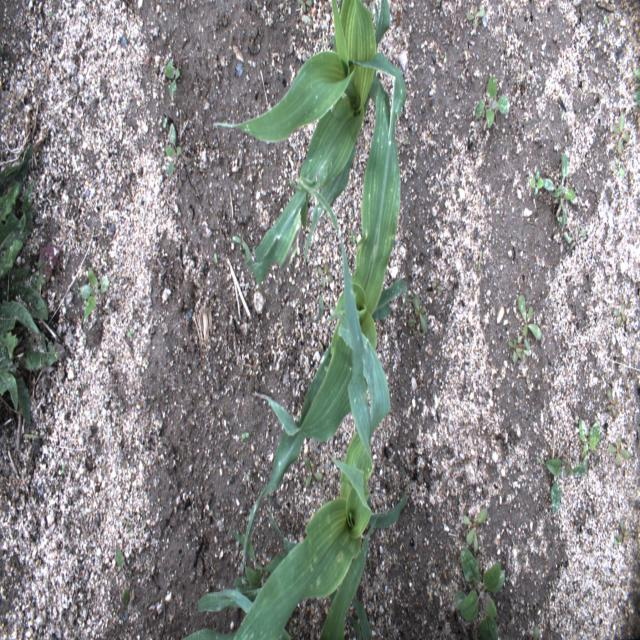crop: (242, 52, 410, 574), (178, 284, 391, 638), (212, 0, 390, 280), (320, 495, 387, 639), (309, 194, 349, 284), (382, 464, 410, 532), (304, 207, 320, 263), (350, 598, 372, 636)
weed: (0, 144, 65, 432), (454, 548, 507, 622), (544, 147, 580, 231), (543, 454, 588, 518), (474, 70, 510, 134), (78, 264, 112, 322), (516, 294, 542, 342), (114, 540, 131, 612), (462, 506, 488, 550), (578, 415, 603, 457), (163, 124, 181, 181), (608, 110, 630, 156), (605, 433, 633, 468), (162, 58, 180, 108), (302, 456, 326, 487), (413, 294, 431, 335), (314, 258, 334, 292), (508, 333, 528, 365), (560, 226, 587, 249), (605, 384, 619, 420), (476, 618, 498, 640), (466, 6, 486, 30), (406, 315, 423, 342), (178, 107, 191, 139), (617, 519, 631, 545), (529, 172, 543, 198), (428, 279, 445, 300), (612, 302, 625, 327), (615, 159, 627, 185), (632, 64, 639, 108), (297, 0, 315, 14), (45, 6, 62, 20), (231, 231, 243, 250), (477, 244, 485, 272), (238, 430, 254, 443), (348, 228, 358, 245), (298, 16, 316, 25), (602, 12, 611, 29), (212, 249, 220, 268), (60, 459, 66, 480), (126, 324, 134, 339), (534, 624, 542, 638), (162, 117, 168, 128)
